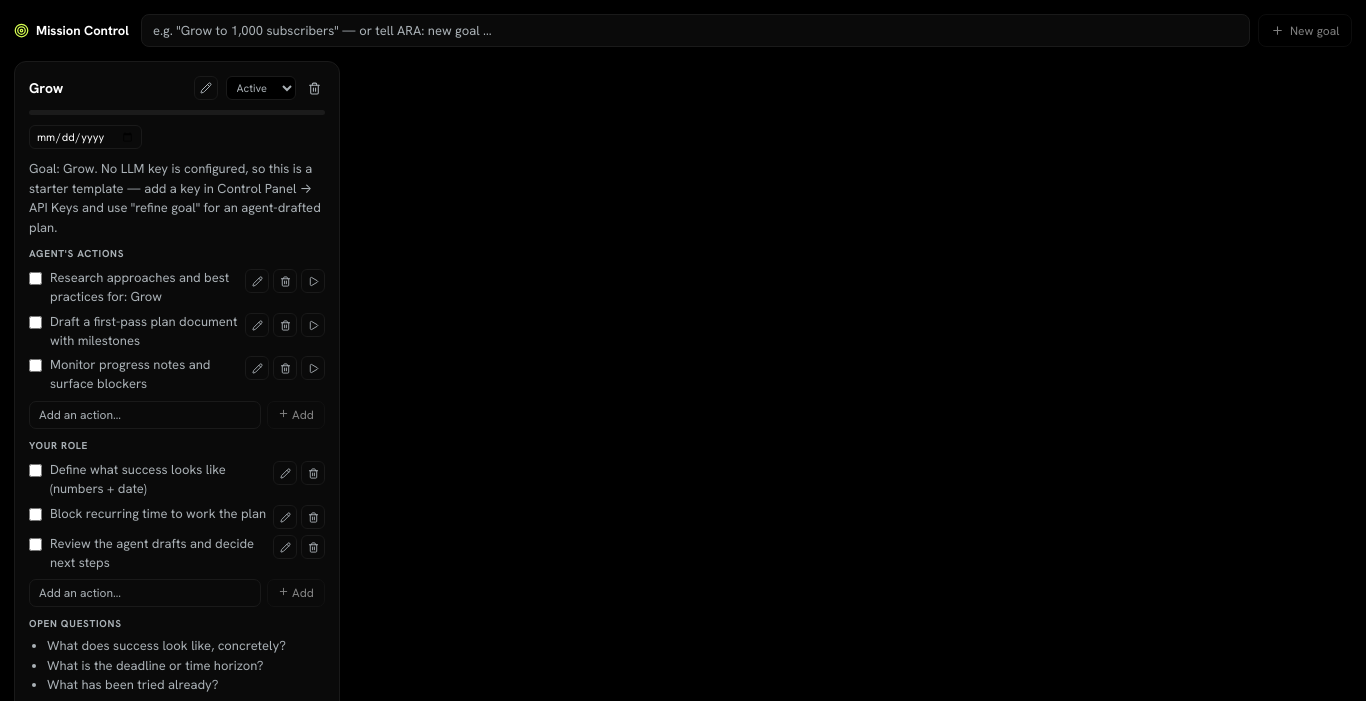
Test case: run with agent › failed -> alert
Click the button named "Run with agent: Research approaches and best practices for:" at x=312, y=281, box x1=300 y1=269 x2=324 y2=293
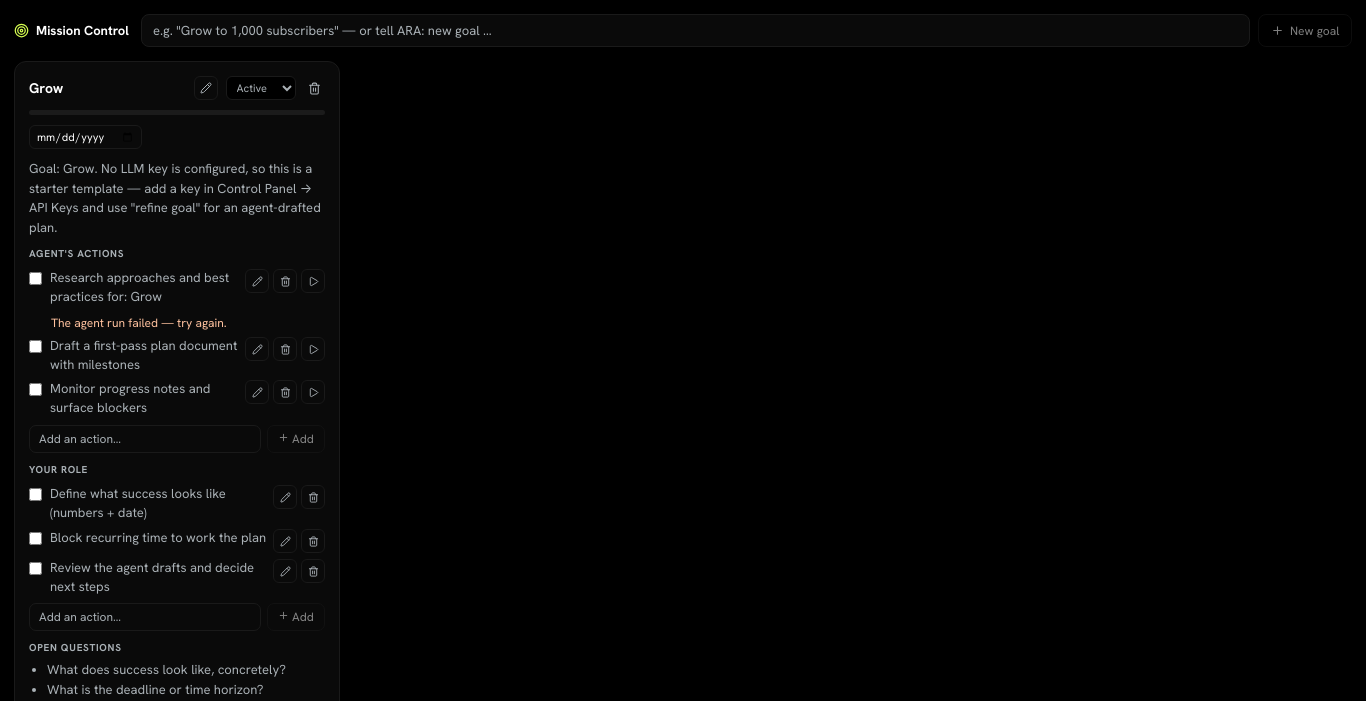
Expected: the text "The agent run failed — try again." is shown, x1=51 y1=315 x2=227 y2=331
